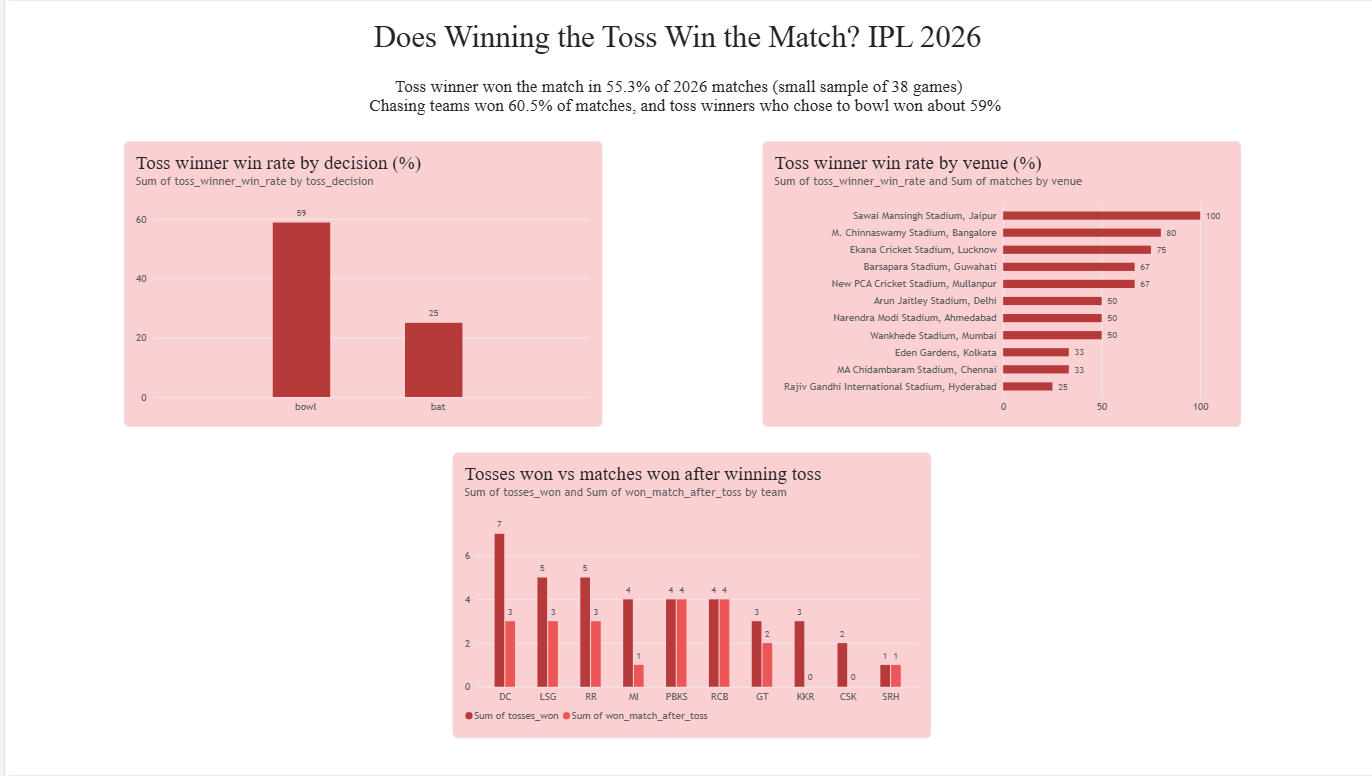

What the dashboard file says about the page in this screenshot:
{"tool":"powerbi","page":{"name":"Page 2","canvas":[1920,1080],"ordinal":0},"visuals":[{"type":"clusteredColumnChart","title":"Toss winner win rate by decision (%)","fields":{"Category":["toss_by_decision.toss_decision"],"Y":["Sum(toss_by_decision.toss_winner_win_rate)"]},"box":[165.7,195.3,668,399.4],"z":0},{"type":"textbox","box":[75,89,1730.2,106.4],"z":1},{"type":"clusteredBarChart","title":"Toss winner win rate by venue (%)","fields":{"Category":["toss_by_venue.venue"],"Y":["Sum(toss_by_venue.toss_winner_win_rate)"]},"box":[1057,195.3,668,399.4],"z":2},{"type":"clusteredColumnChart","title":"Tosses won vs matches won after winning toss","fields":{"Category":["toss_by_team.team"],"Y":["Sum(toss_by_team.tosses_won)","Sum(toss_by_team.won_match_after_toss)"]},"box":[624.4,629.7,668,399.4],"z":3},{"type":"textbox","box":[113.4,24.4,1650,69.8],"z":4},{"type":"textbox","box":[1770,14.5,150,150],"z":5},{"type":"textbox","box":[0,394.2,150,64.5],"z":6}]}

Visuals, with their boxes in screenshot pixels (x1, y1, x2, y2), scaled from the page's 1920x1080 canvas onto the 1372x776 screenshot:
"Toss winner win rate by decision (%)" clusteredColumnChart: [118,140,596,427]
textbox: [54,64,1290,140]
"Toss winner win rate by venue (%)" clusteredBarChart: [755,140,1233,427]
"Tosses won vs matches won after winning toss" clusteredColumnChart: [446,452,924,739]
textbox: [81,18,1260,68]
textbox: [1265,10,1371,118]
textbox: [0,283,107,330]
